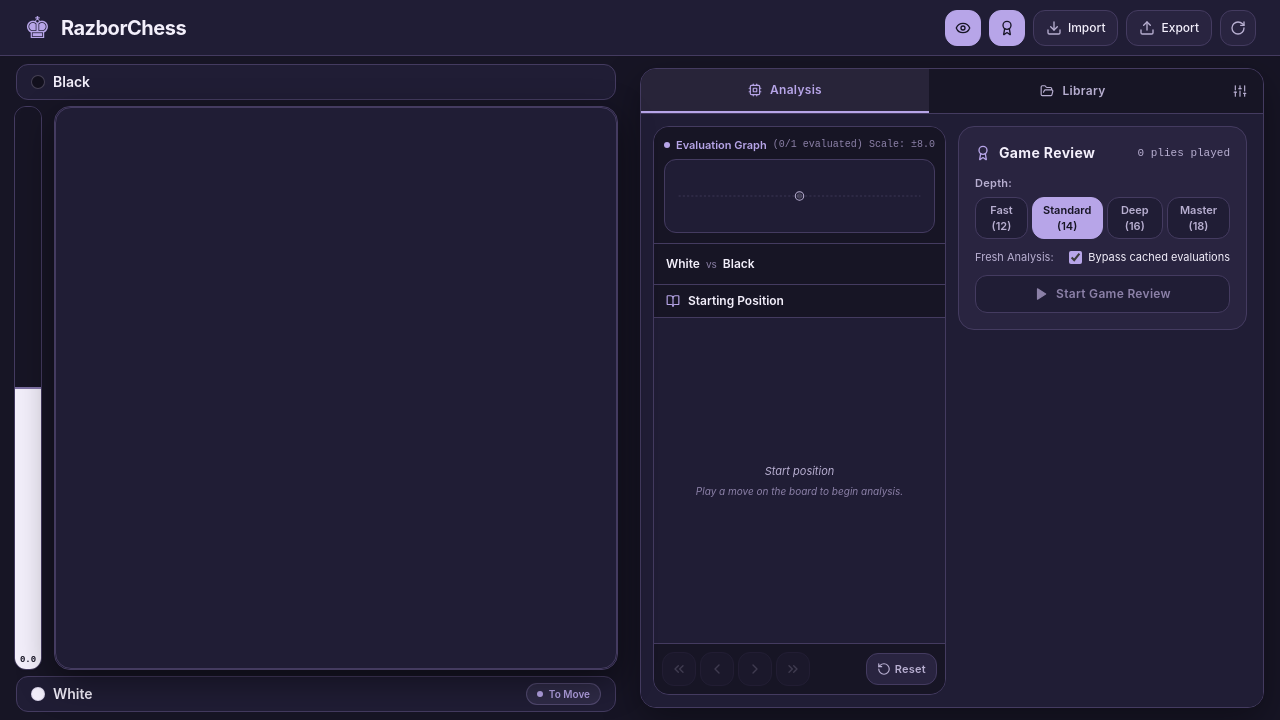
RazborChess: Interactive Board & Navigation › opens and closes the Import/Export modal
Click the button "Import": (1076, 28) [1033,10,1118,46]
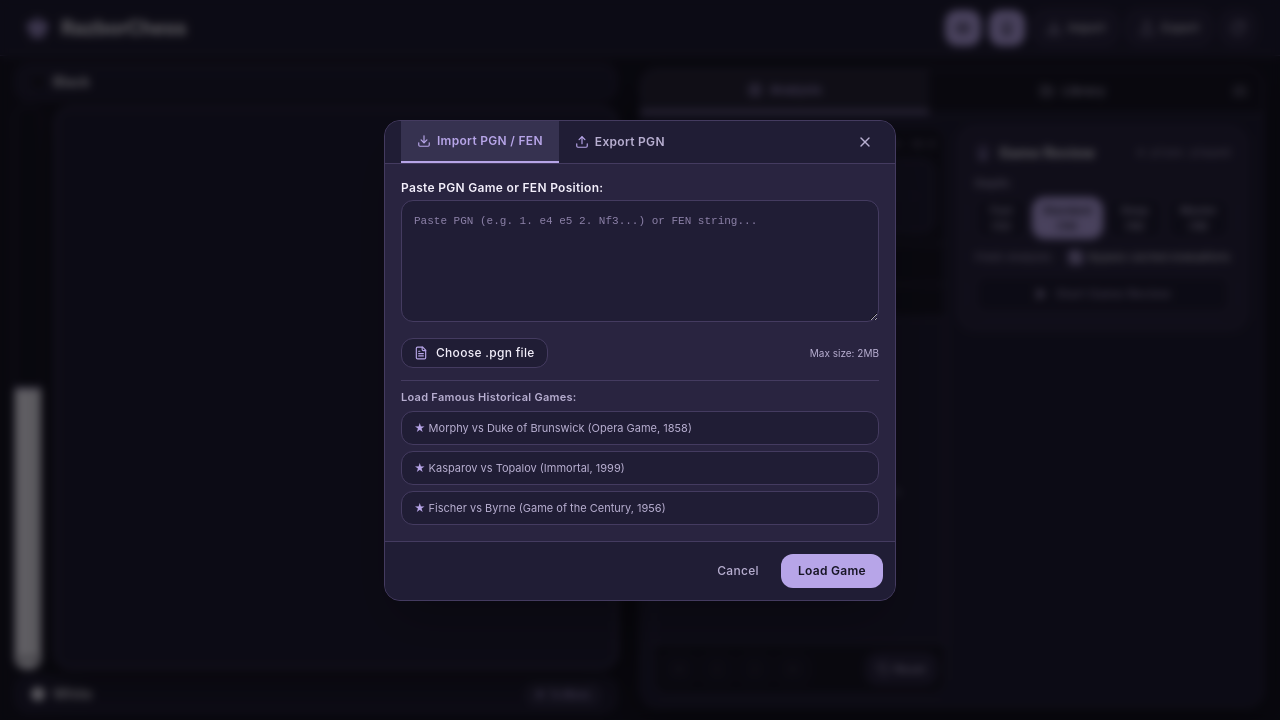
Expected: the text "Import PGN / FEN" is shown, [437,132,543,148]
Expected: the text box with placeholder "Paste PGN (e.g. 1. e4 e5 2. Nf3...) or FEN string..." is shown, [401,200,879,322]
Close modal
Click the button "Cancel": (738, 570) [703,554,773,588]
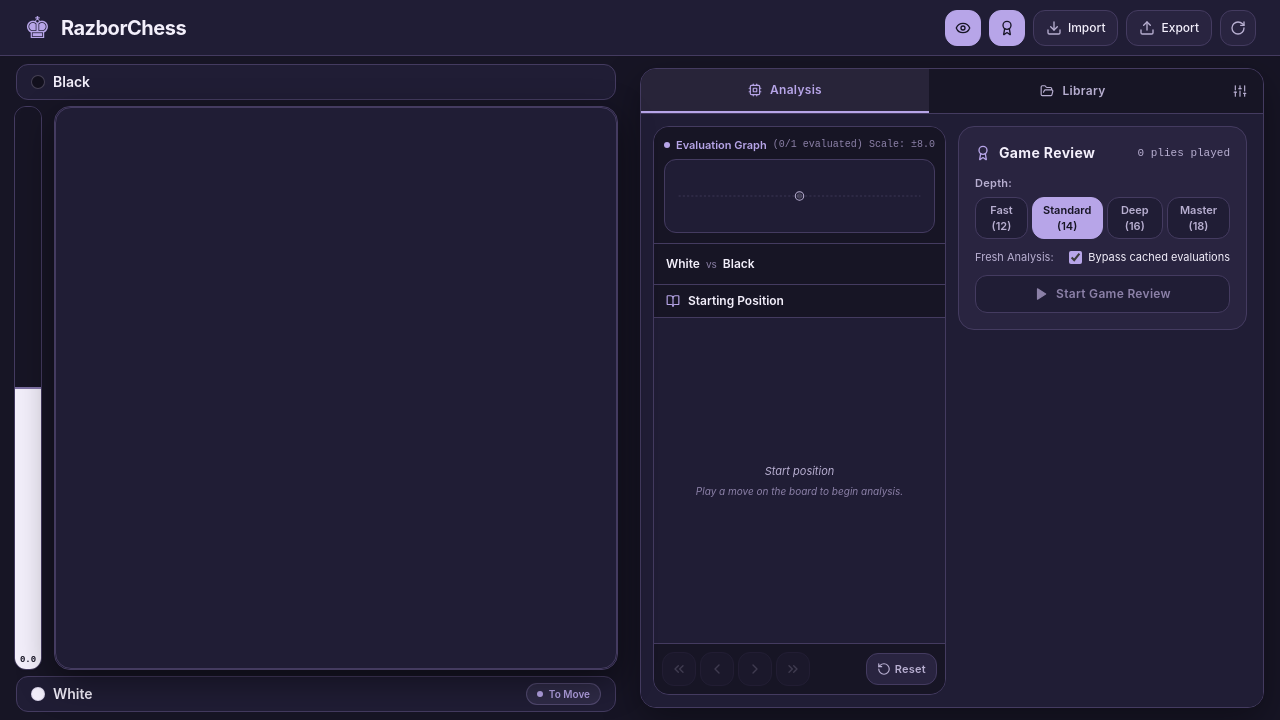
Expected: the label with placeholder "Paste PGN" is gone
